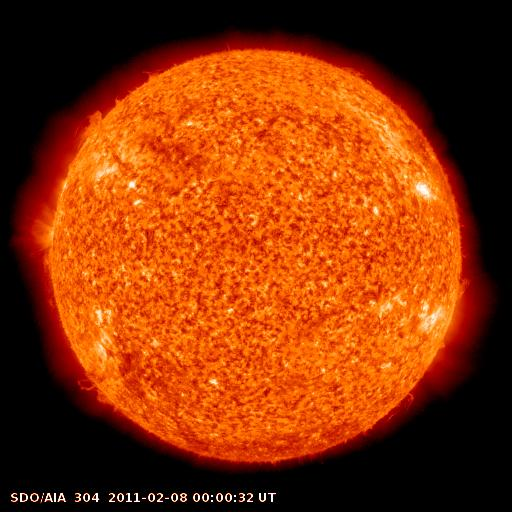prominence: (356, 384, 426, 439), (65, 363, 129, 422), (64, 99, 110, 147), (444, 250, 475, 312)
